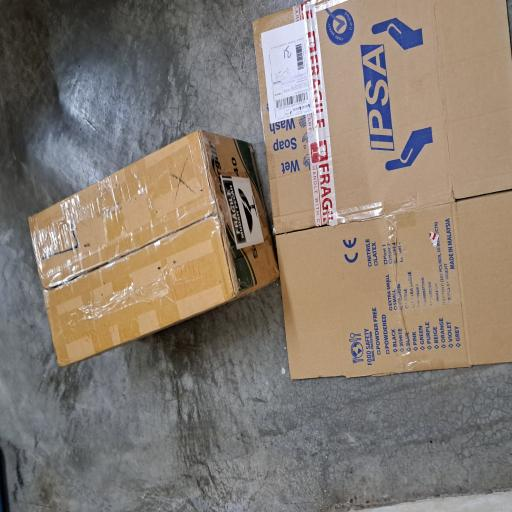cardboard: (111, 33, 286, 375), (99, 340, 384, 512)
